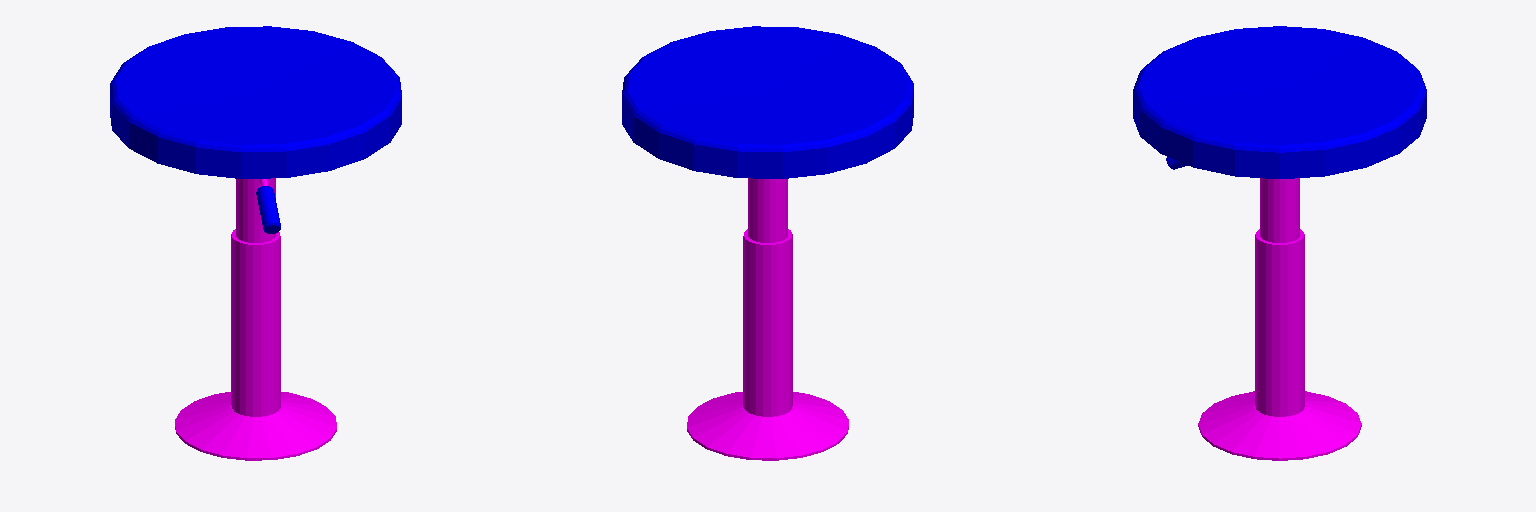
Rendered from ChairOBJ.obj.
3 renders of one model, left to right at view 1: azimuth 30°, elevation 25°; view 2: azimuth 150°, elevation 25°; view 3: azimuth 270°, elevation 25°, orthographic.
Parts seen in each view (by area): view 1: ChairSeat, ChairMiddleBottom, ChairBottom, ChairMiddleTop, ChairHandle; view 2: ChairSeat, ChairMiddleBottom, ChairBottom, ChairMiddleTop; view 3: ChairSeat, ChairMiddleBottom, ChairBottom, ChairMiddleTop.
Boxes of the visible parts, x1=… form: ChairSeat: x1=110, y1=26, x2=401, y2=178; ChairMiddleBottom: x1=231, y1=229, x2=280, y2=416; ChairBottom: x1=175, y1=392, x2=336, y2=460; ChairMiddleTop: x1=236, y1=178, x2=275, y2=242; ChairHandle: x1=256, y1=186, x2=280, y2=233; ChairSeat: x1=622, y1=26, x2=913, y2=178; ChairMiddleBottom: x1=743, y1=229, x2=792, y2=416; ChairBottom: x1=687, y1=392, x2=848, y2=460; ChairMiddleTop: x1=748, y1=178, x2=787, y2=242; ChairSeat: x1=1133, y1=26, x2=1426, y2=178; ChairMiddleBottom: x1=1255, y1=229, x2=1304, y2=416; ChairBottom: x1=1198, y1=391, x2=1361, y2=460; ChairMiddleTop: x1=1260, y1=178, x2=1299, y2=242.
Bounding box in the file's own units: 9.15 × 11.69 × 9.15.